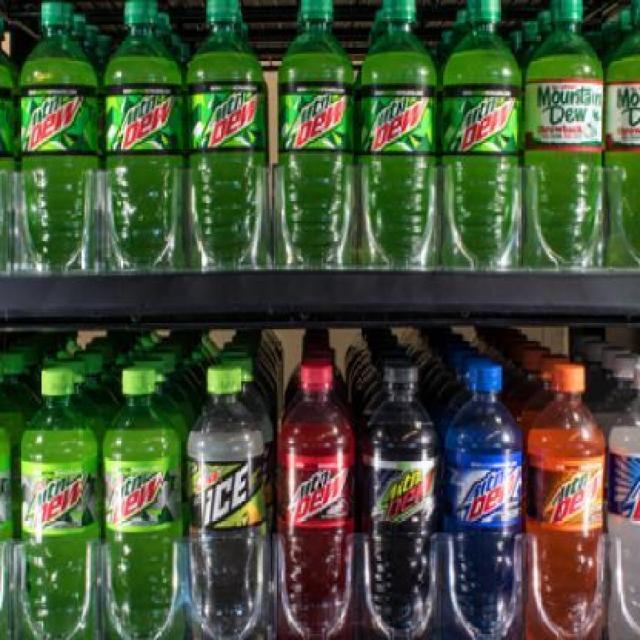Drinks: (354, 1, 438, 270), (18, 366, 100, 640), (278, 361, 358, 639), (360, 360, 440, 638), (444, 361, 524, 639), (524, 360, 604, 638), (440, 0, 522, 269), (101, 366, 181, 640), (19, 2, 99, 275), (102, 0, 182, 272), (185, 1, 264, 274), (278, 0, 356, 269)
